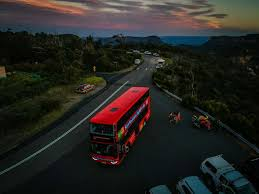bus: (89, 85, 152, 166)
